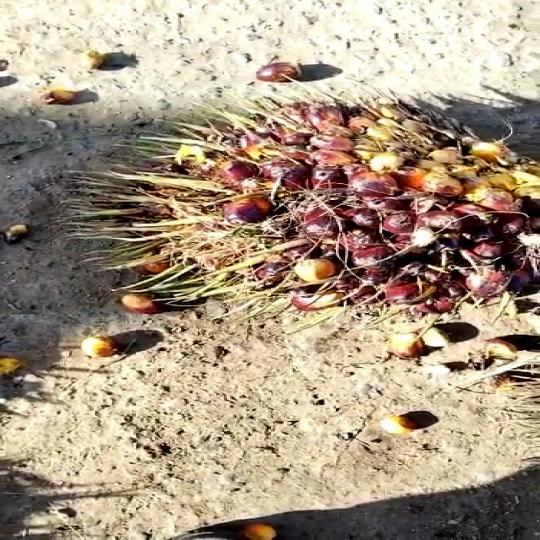masak: (71, 93, 540, 311)
